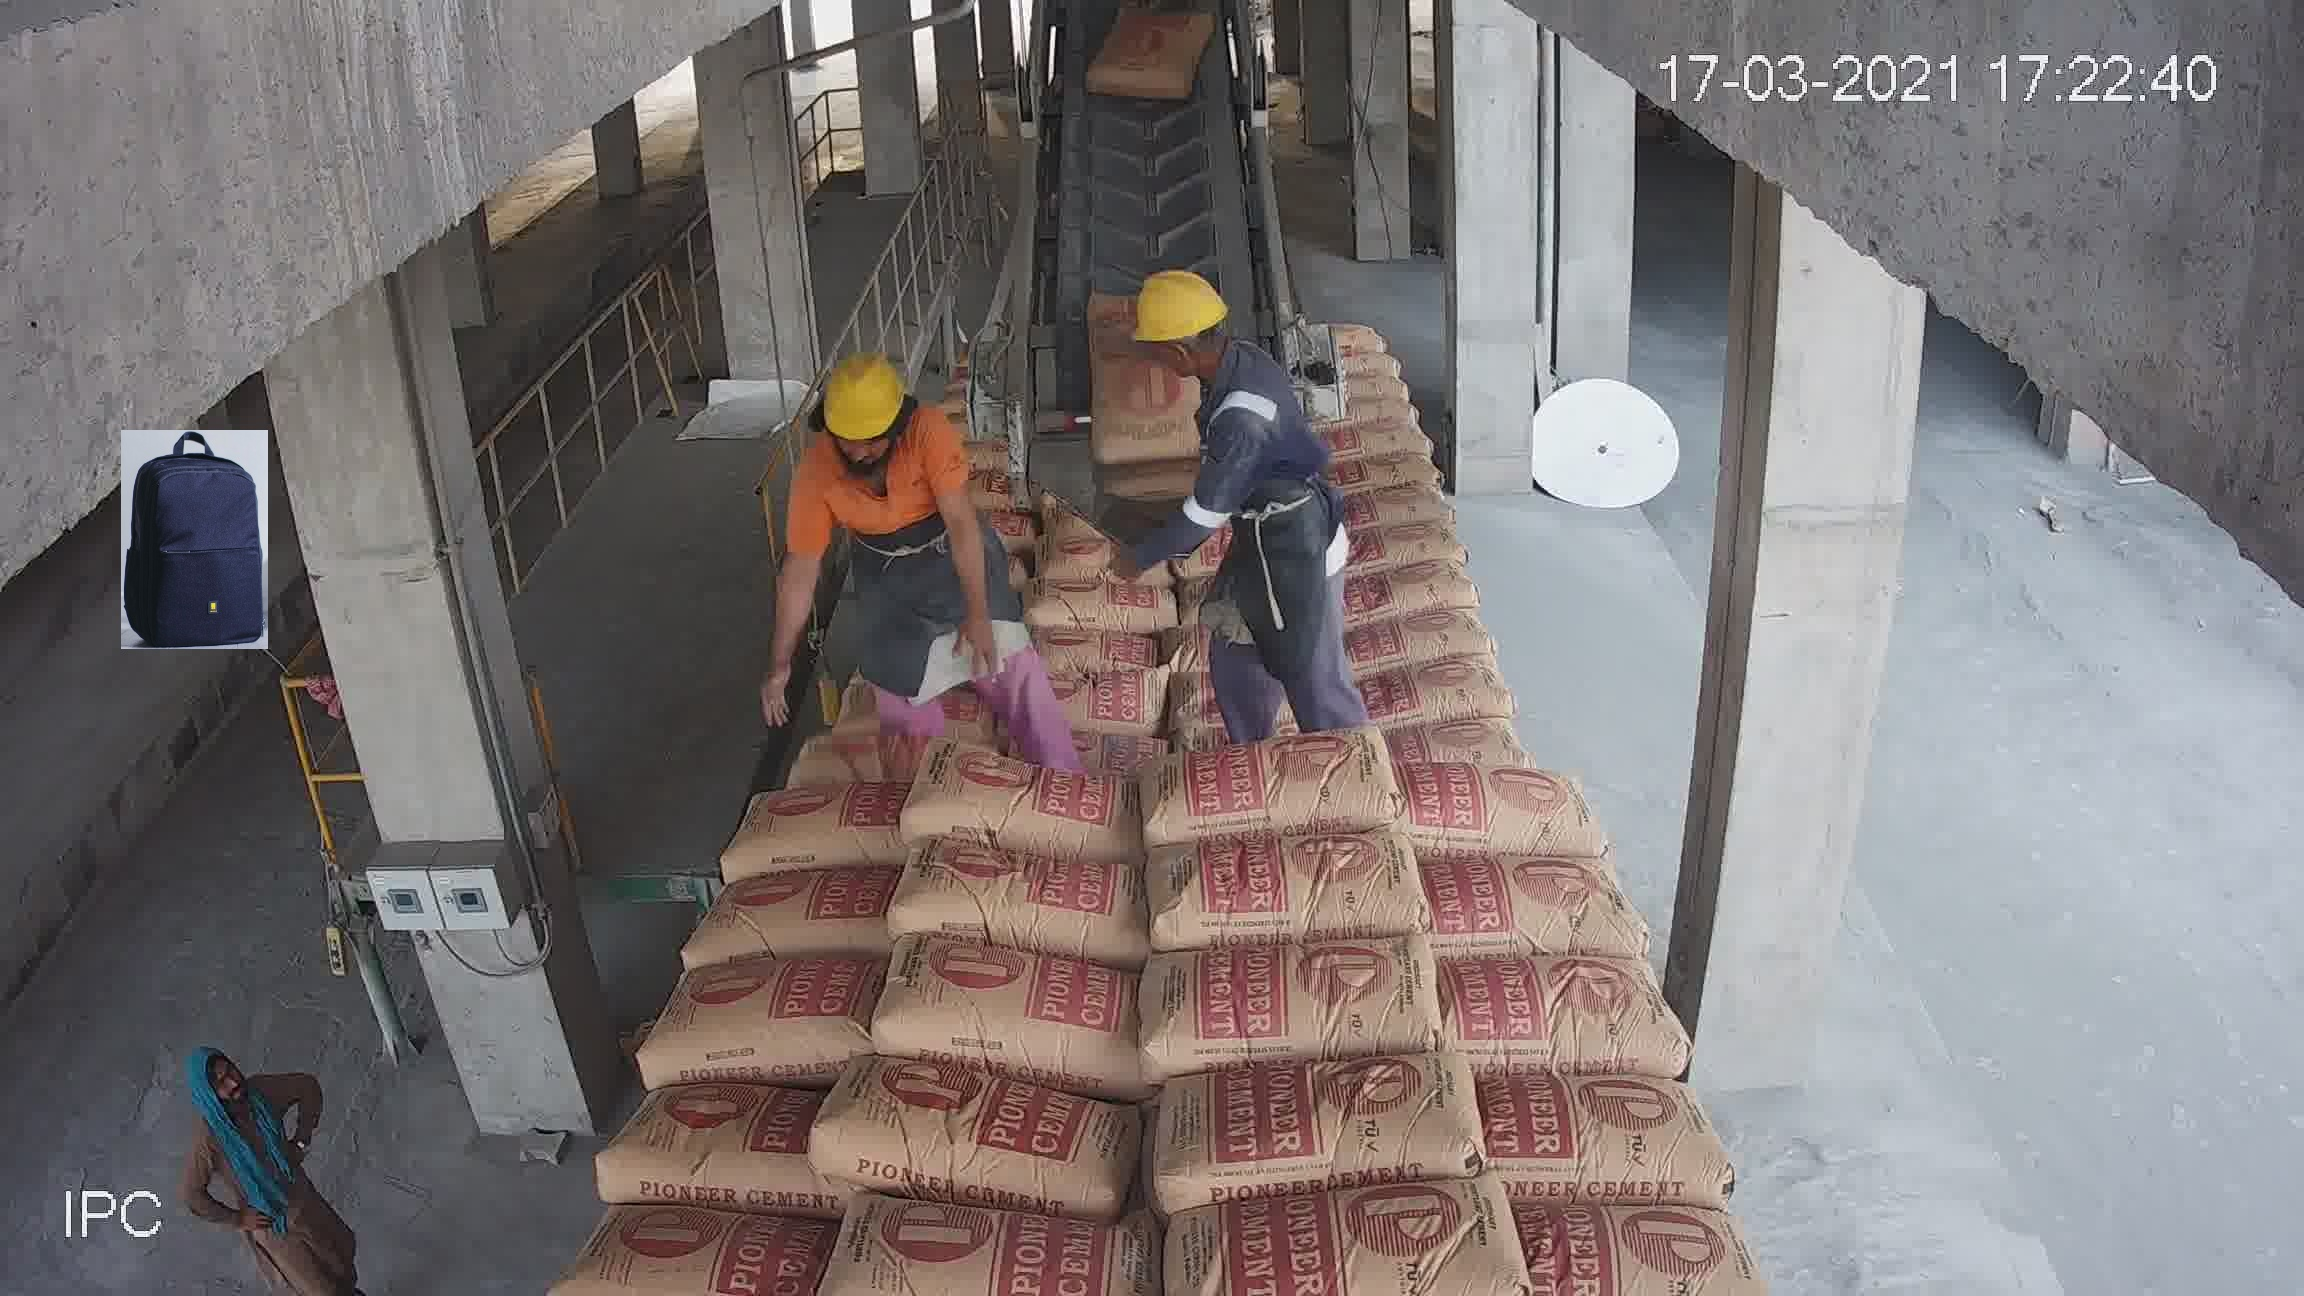bag: (1087, 353, 1196, 503), (1090, 32, 1209, 135)
bag_h: (1157, 1052, 1475, 1201), (1160, 1158, 1513, 1285), (1136, 930, 1435, 1062), (843, 957, 1154, 1082), (1135, 832, 1434, 961), (888, 839, 1166, 968), (810, 1093, 1116, 1211), (584, 1078, 848, 1212), (642, 938, 900, 1063), (1468, 1063, 1704, 1195), (1445, 940, 1696, 1059), (1491, 1195, 1760, 1293), (1168, 731, 1381, 855), (557, 1190, 831, 1280), (1165, 635, 1359, 758), (1408, 840, 1622, 949), (695, 859, 908, 961), (817, 1218, 1157, 1282), (709, 782, 915, 885), (767, 620, 1003, 706), (911, 763, 1119, 851), (1285, 541, 1476, 631), (726, 704, 929, 788), (1416, 760, 1600, 850), (916, 685, 1154, 755), (1366, 669, 1549, 742), (1337, 585, 1487, 661), (1282, 473, 1457, 536), (1016, 563, 1171, 633), (1301, 506, 1468, 565), (1038, 617, 1192, 676), (1298, 440, 1446, 498), (1275, 411, 1434, 465), (1290, 373, 1416, 437), (1030, 525, 1166, 579), (1070, 484, 1171, 536)
belt: (1022, 30, 1279, 448)
